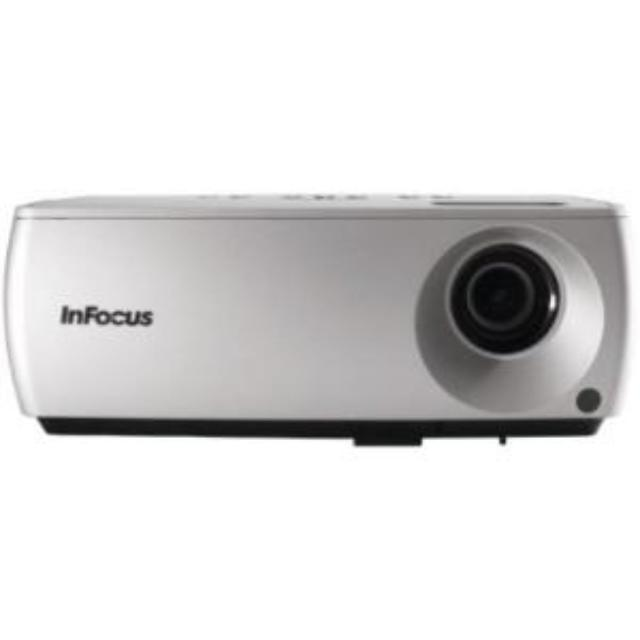Projector: (7, 192, 635, 454)
